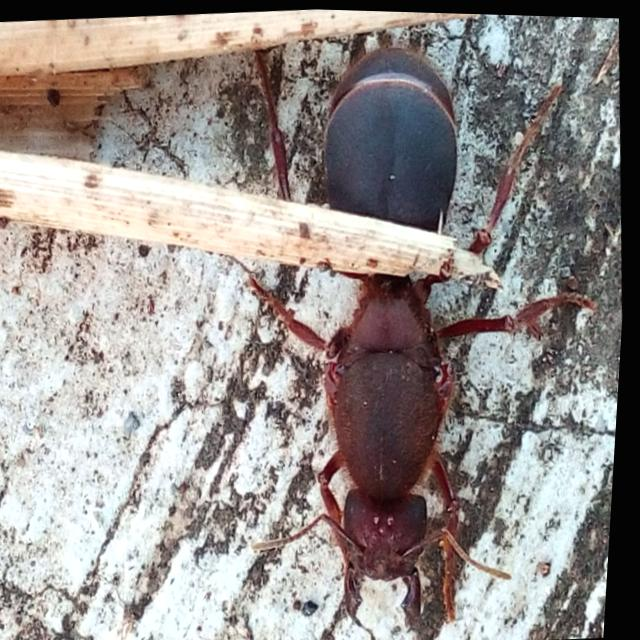Alive-Female-Dealate: (172, 19, 639, 640)
